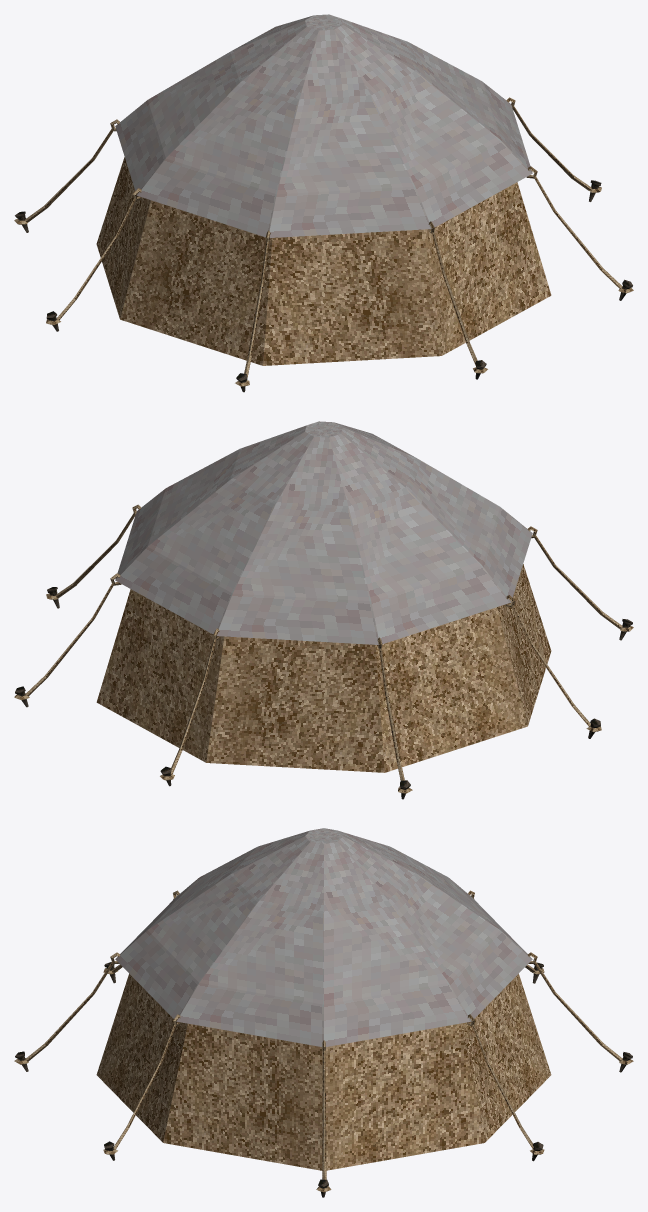
The model's file is hay_covered.glb.
The picture shows the model from 3 angles, top to bottom: view 1: azimuth 30°, elevation 25°; view 2: azimuth 150°, elevation 25°; view 3: azimuth 270°, elevation 25°; orthographic projection. The views are drawn at different scales.
Visible parts, largest first — view 1: hay_covered; view 2: hay_covered; view 3: hay_covered.
Boxes of the visible parts, bbox=[...] form: hay_covered: bbox=[14, 14, 633, 392]; hay_covered: bbox=[14, 421, 633, 799]; hay_covered: bbox=[14, 828, 633, 1197].
Size of the model in its own units: 5.45 by 2.32 by 5.45.
2 materials, 2 textured.
